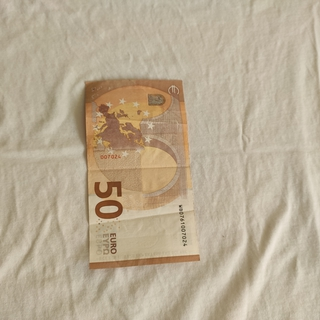50EUROBack: (83, 77, 201, 270)
